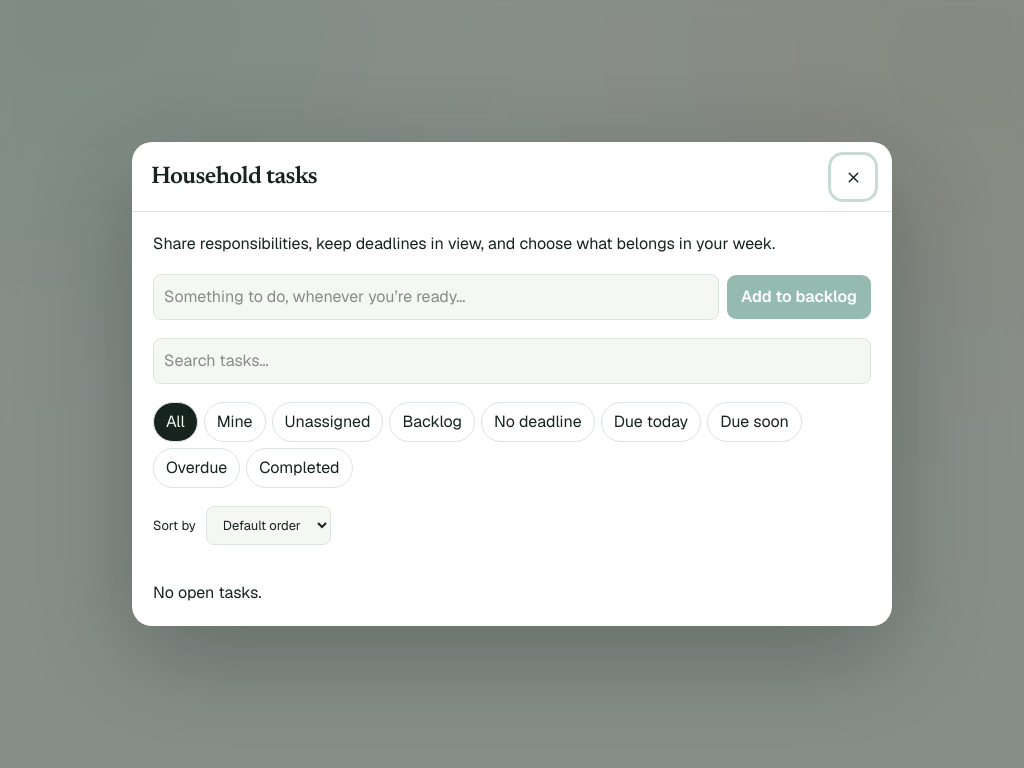
Test: task workspace create retries › ignores repeated Enter while saving and preserves the next task being typed
The width and height of the screenshot is (1024, 768).
Type "First task" into the field named "Capture a task" at (436, 297), box [153,274,719,320]
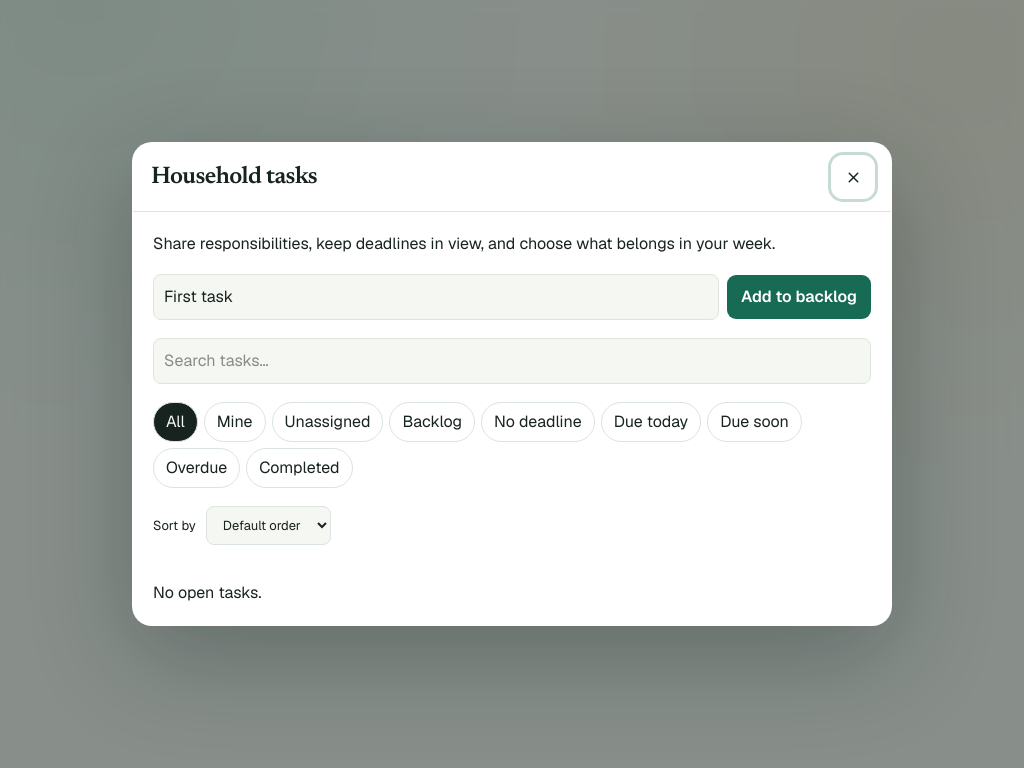
Press Enter in the field named "Capture a task", box [153,274,719,320]
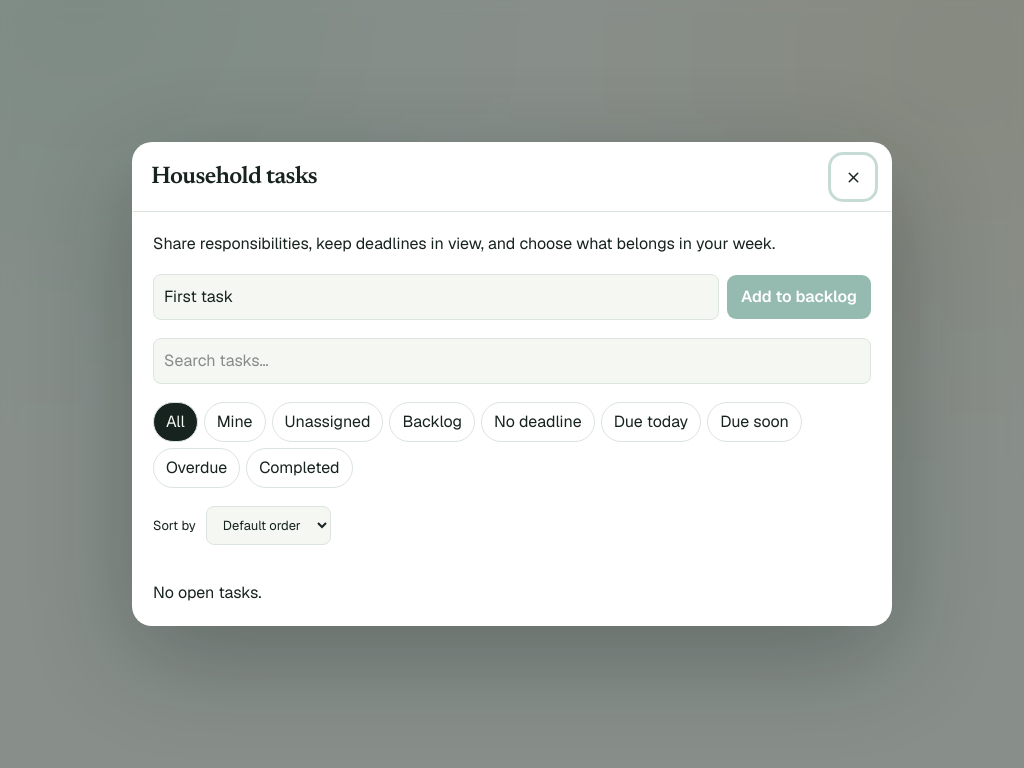
Press Enter in the field named "Capture a task", box [153,274,719,320]
Replace the text in the field named "Capture a task" with "Next task" at (436, 297), box [153,274,719,320]
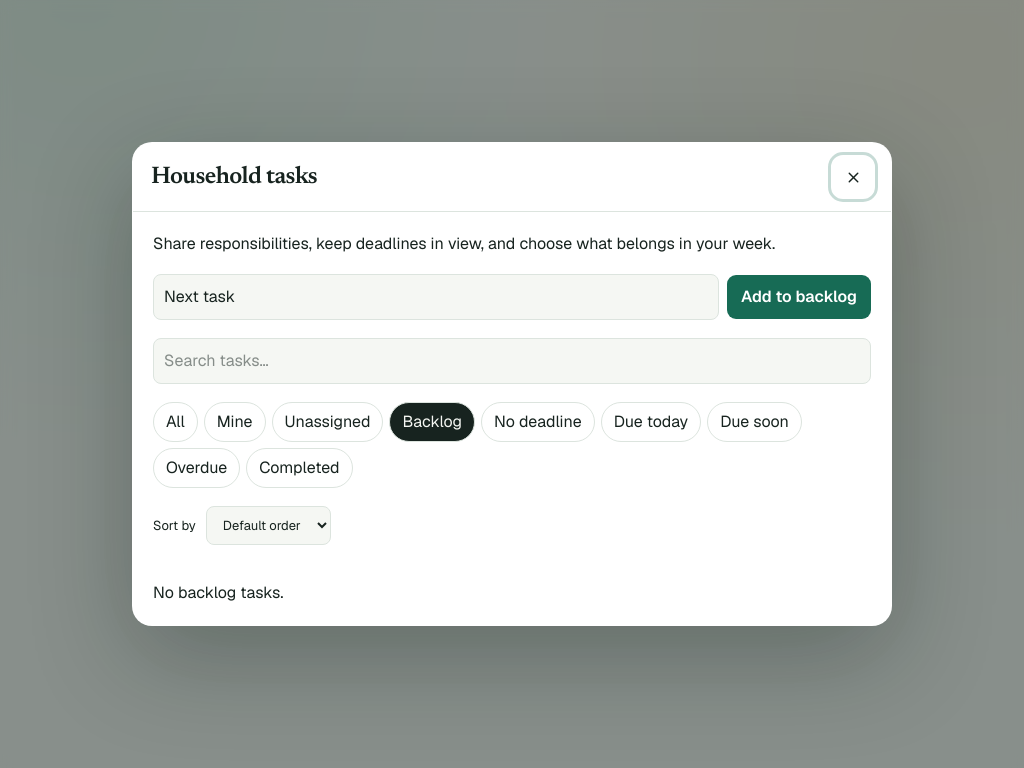
Check: the button "Add to backlog" is enabled, box [727,275,871,319]
